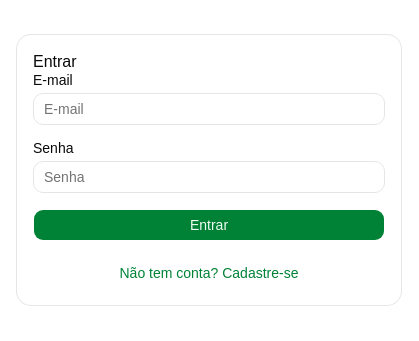
LoginScreen › mostra o erro vindo do servidor e deixa tentar de novo
In the field labelled "E-mail": (209, 109) [33,93,385,125], type "a@b.co"
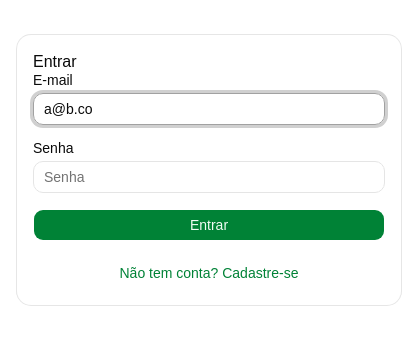
In the password field labelled "Senha": (209, 177) [33,161,385,193], type "errada"
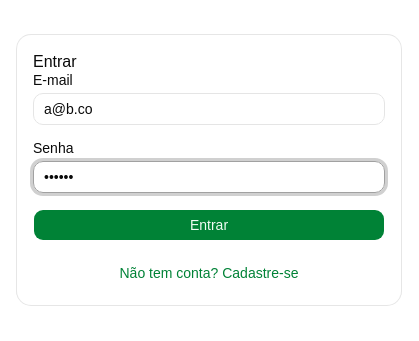
Click the button "Entrar": (209, 225) [33,209,385,241]
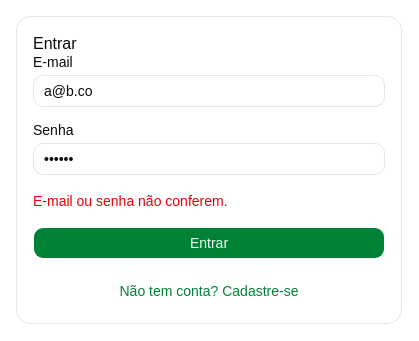
Check: the button "Entrar" is enabled, box [33,227,385,259]
Check: the text "E-mail ou senha não conferem." is shown, box [33,193,228,209]
